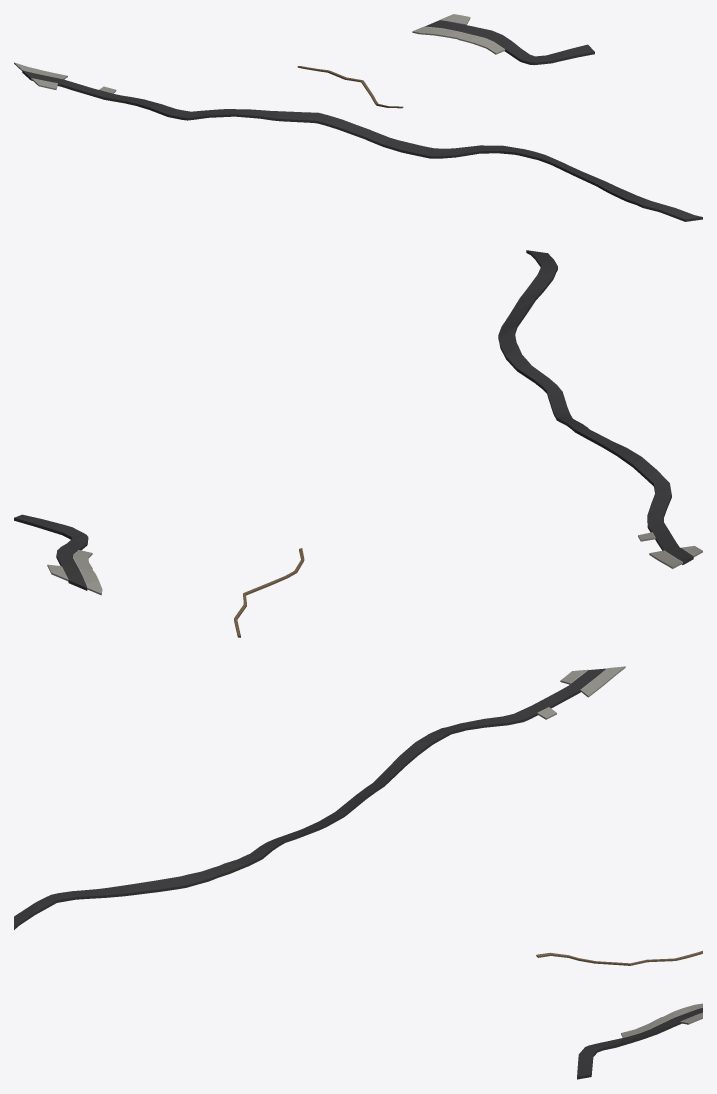
3 views of the same model, one above another, from view 1: azimuth 30°, elevation 25°; view 2: azimuth 150°, elevation 25°; view 3: azimuth 270°, elevation 25° (orthographic). The views are drawn at different scales.
Size of the model in its own units: 293 by 56.04 by 291.
